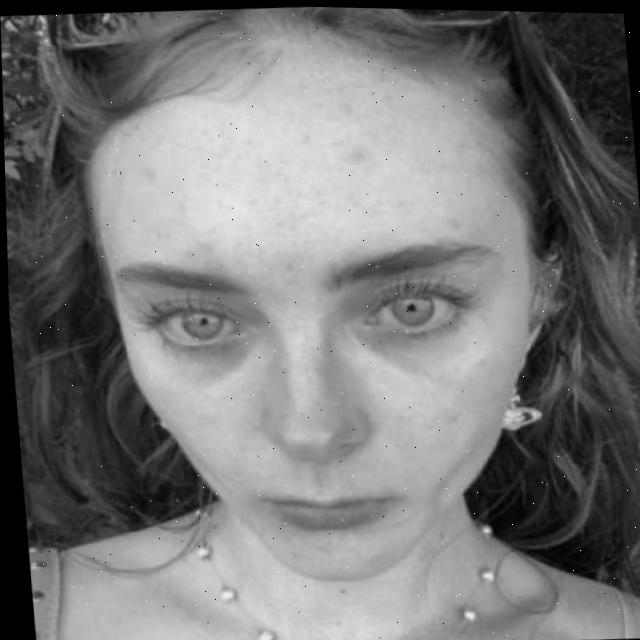Acne: (341, 132, 376, 169)
